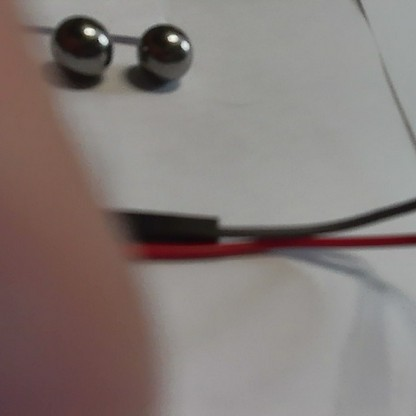ironball: (50, 10, 111, 79), (134, 23, 192, 83)
